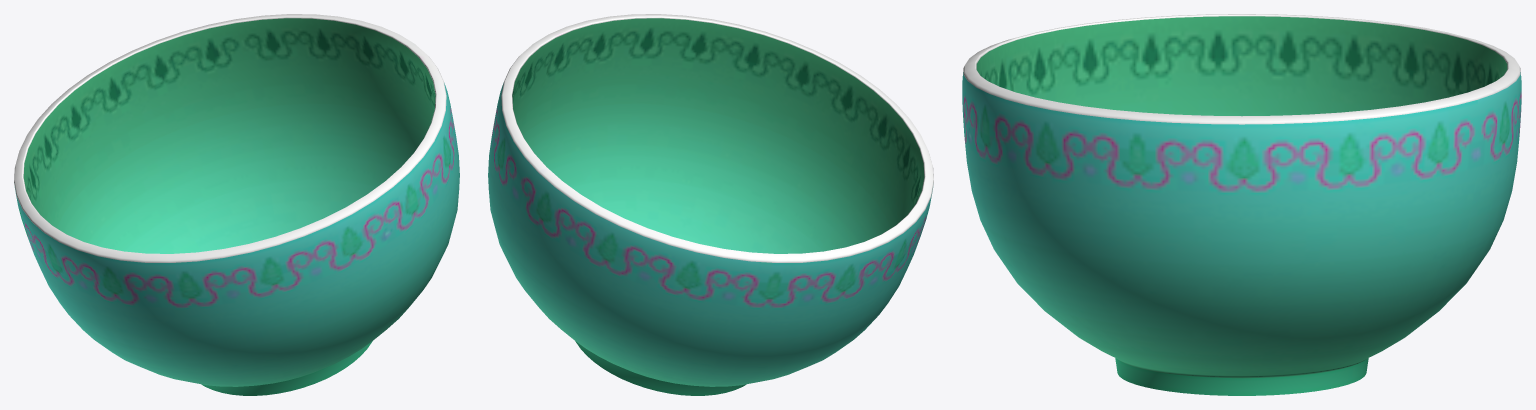
3 renders of one model, left to right at view 1: azimuth 30°, elevation 25°; view 2: azimuth 150°, elevation 25°; view 3: azimuth 270°, elevation 25°, orthographic. The views are drawn at different scales.
Parts seen in each view (by area): view 1: wan; view 2: wan; view 3: wan.
Part boxes in pixels (x1,y1,x2,y2): wan: (14,14,459,395); wan: (488,14,933,395); wan: (962,14,1521,395).
Bounding box in the file's own units: 8.1 × 5.74 × 8.06.
